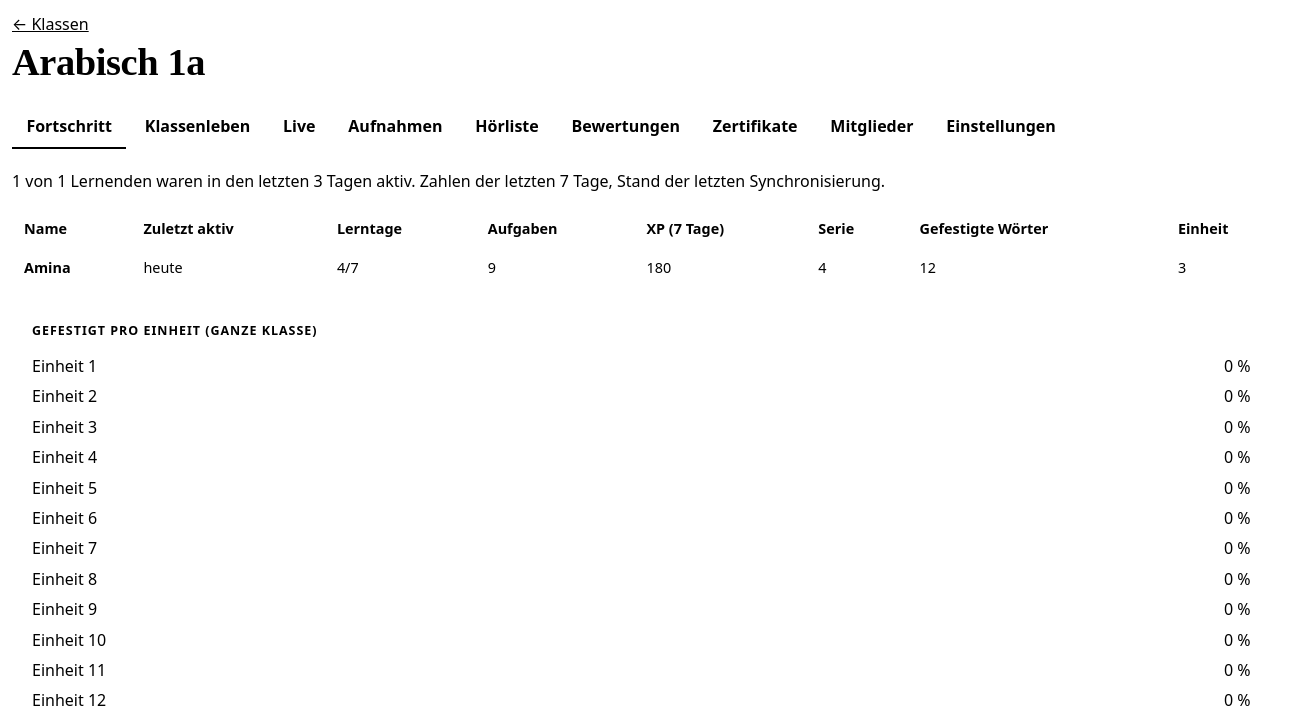
it: Class page (integration) › keeps the class on screen when the refresh after a save fails
Click the tab "Einstellungen" at (1001, 127), box 932,104 -> 1070,149
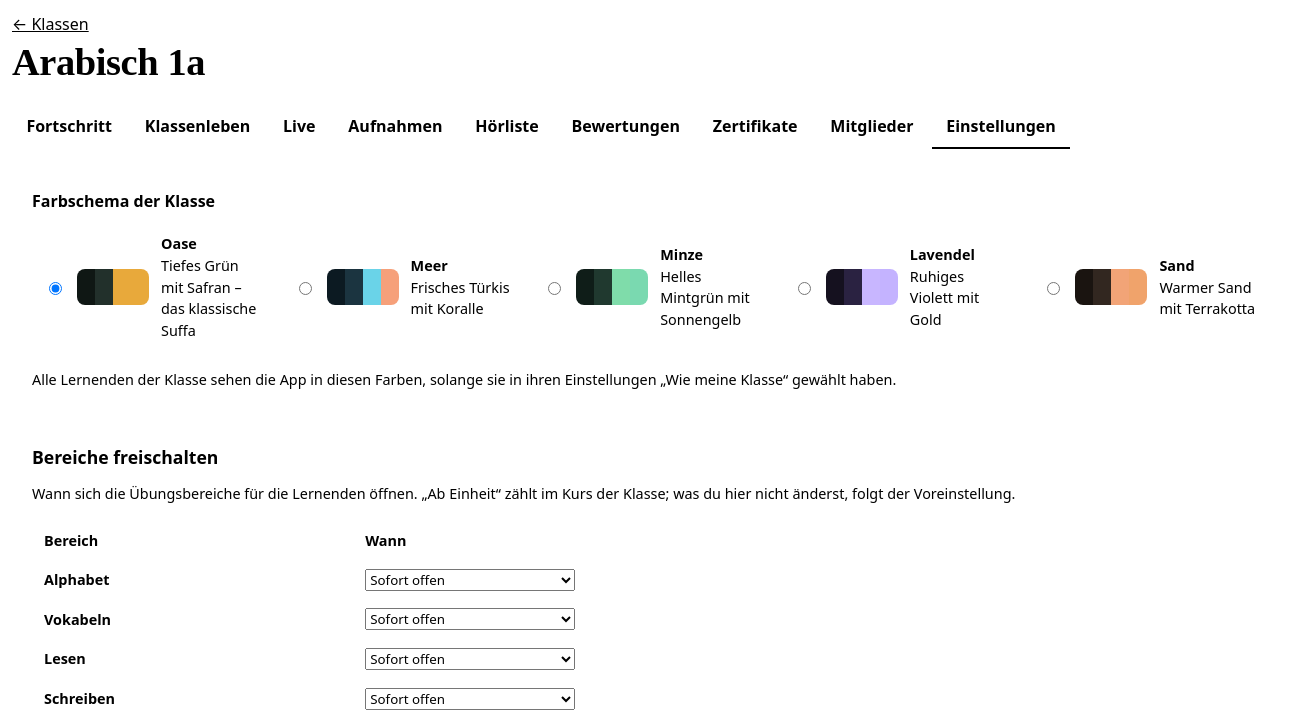
Click the radio button labelled "Meer Frisches Türkis mit Koralle" at (305, 289), box 299,282 -> 312,295
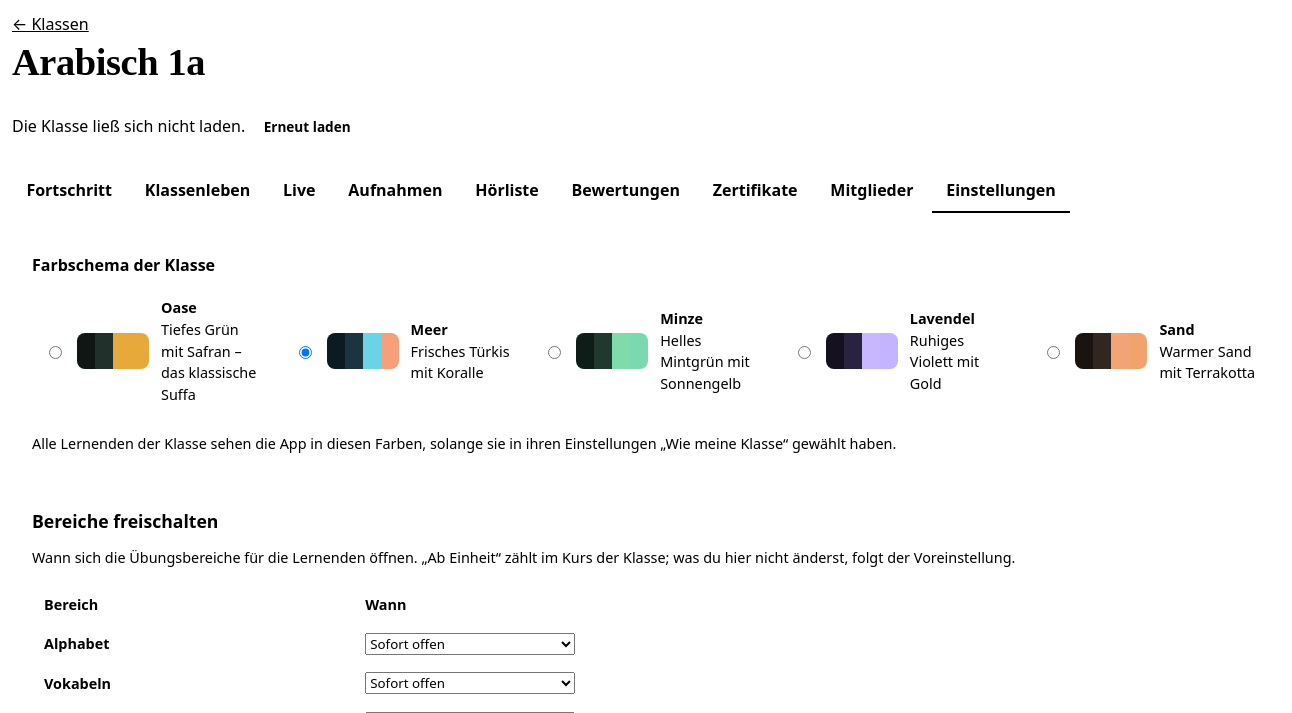
Expected: the heading "Arabisch 1a" is shown, 12,41 -> 205,83
Now the radio button labelled "Meer Frisches Türkis mit Koralle" is checked, box 299,346 -> 312,359
Now the message shows "Die Klasse ließ sich nicht laden.", box 12,115 -> 245,137
Click the button "Erneut laden" at (307, 126), box 253,104 -> 361,148
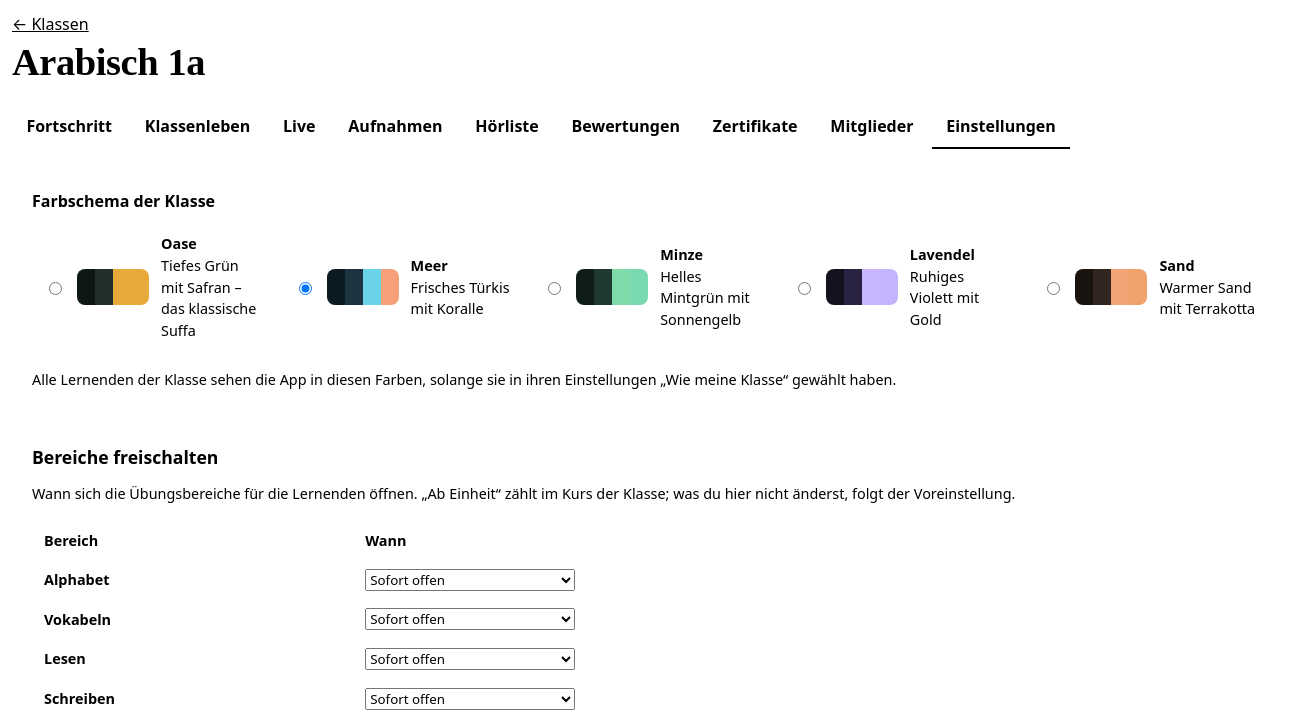
Now the message "Die Klasse ließ sich nicht laden. Erneut laden" is gone
